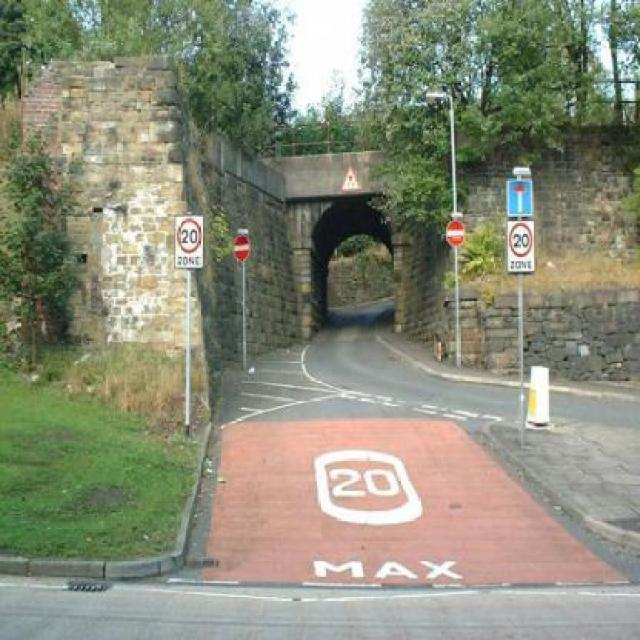traffic_sign: (443, 214, 469, 252), (231, 235, 254, 263)
